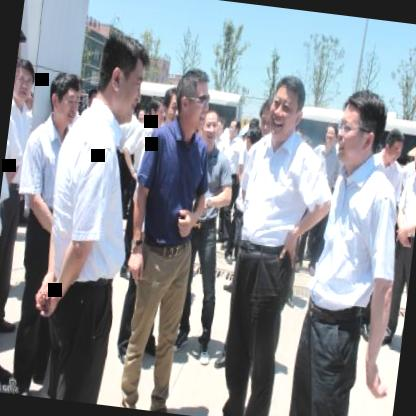head: (92, 30, 150, 124), (334, 89, 389, 168), (264, 69, 314, 143), (171, 64, 215, 138), (46, 68, 81, 130), (10, 51, 40, 111), (12, 16, 30, 98), (379, 122, 406, 168), (201, 102, 224, 148), (158, 83, 181, 129), (145, 93, 167, 132), (242, 122, 264, 158), (256, 97, 275, 137), (320, 120, 338, 152), (225, 115, 242, 142), (407, 132, 416, 180)
